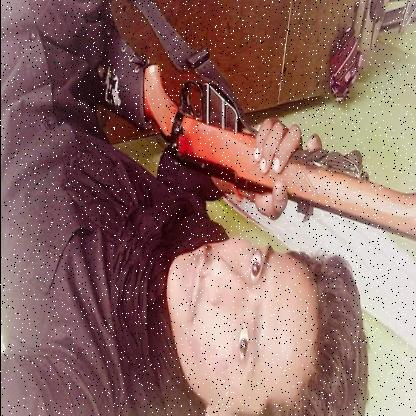rifle: (87, 0, 416, 242)
